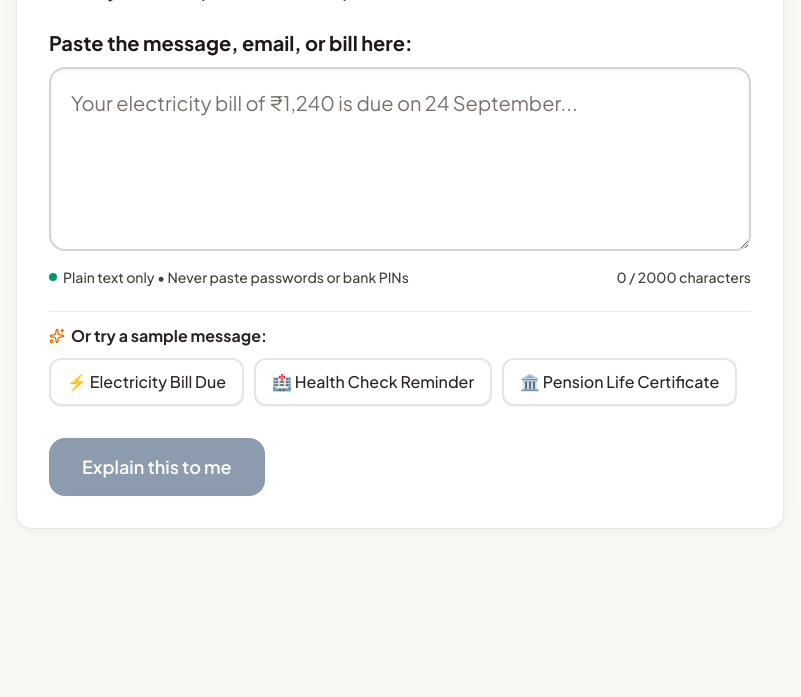
Scenario: UnderstandFeature Component & Security Tests › handles API errors gracefully and allows retry
In the text box labelled "Paste the message, email, or bill here:": (400, 159) x1=49 y1=67 x2=751 y2=251, type "Complicated notice"
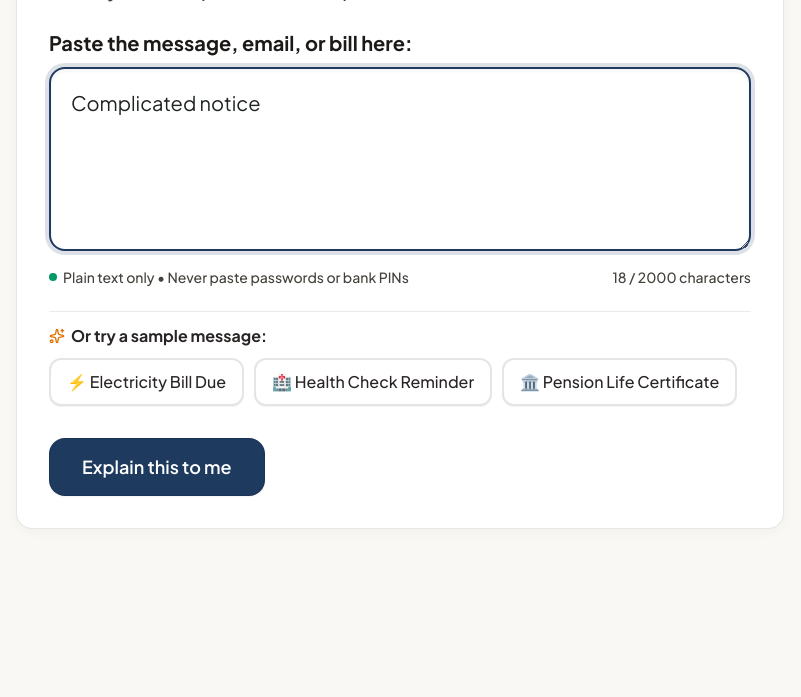
Click the button "Explain this to me": (157, 467) x1=49 y1=438 x2=265 y2=496
(page scrolled)
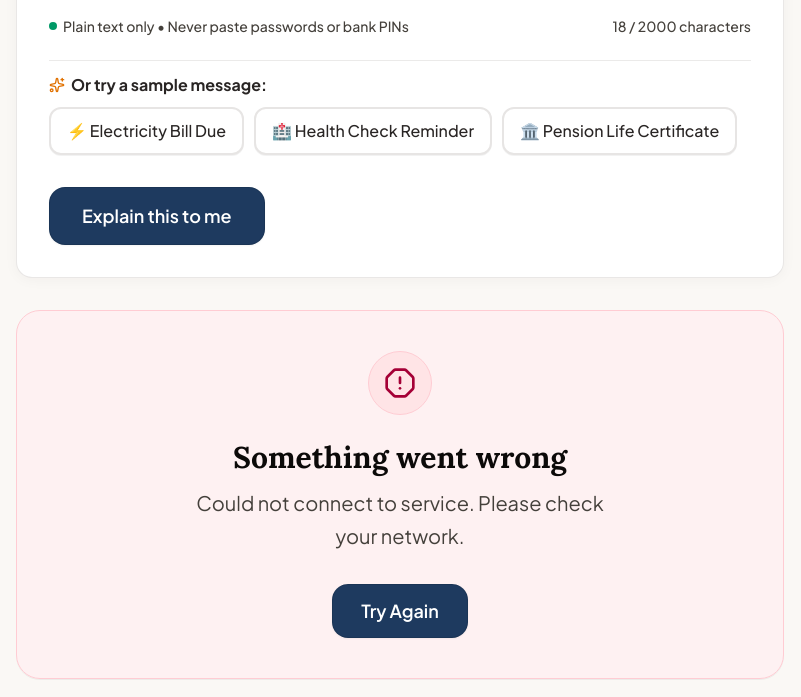
expect the text "Could not connect to service. Please check your network." is shown: met, box x1=176 y1=487 x2=624 y2=552
expect the button "Try Again" is shown: met, box x1=332 y1=584 x2=468 y2=638
